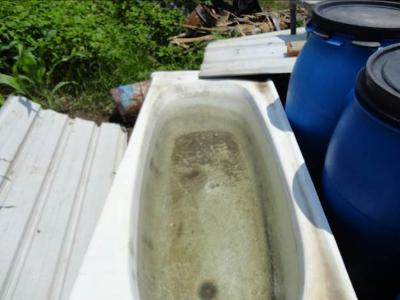plate: (307, 1, 400, 42)
tub: (68, 69, 359, 300)
